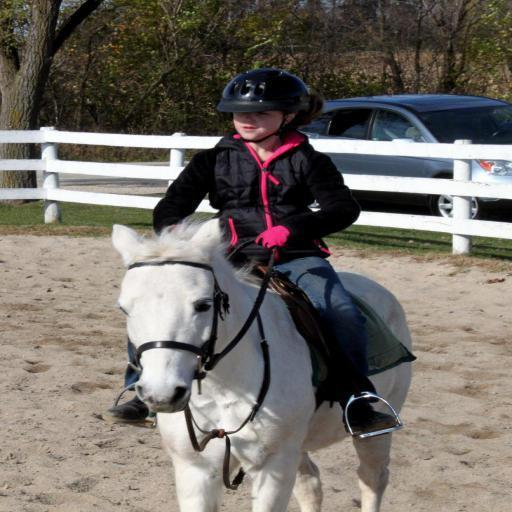horse: (112, 210, 412, 512)
